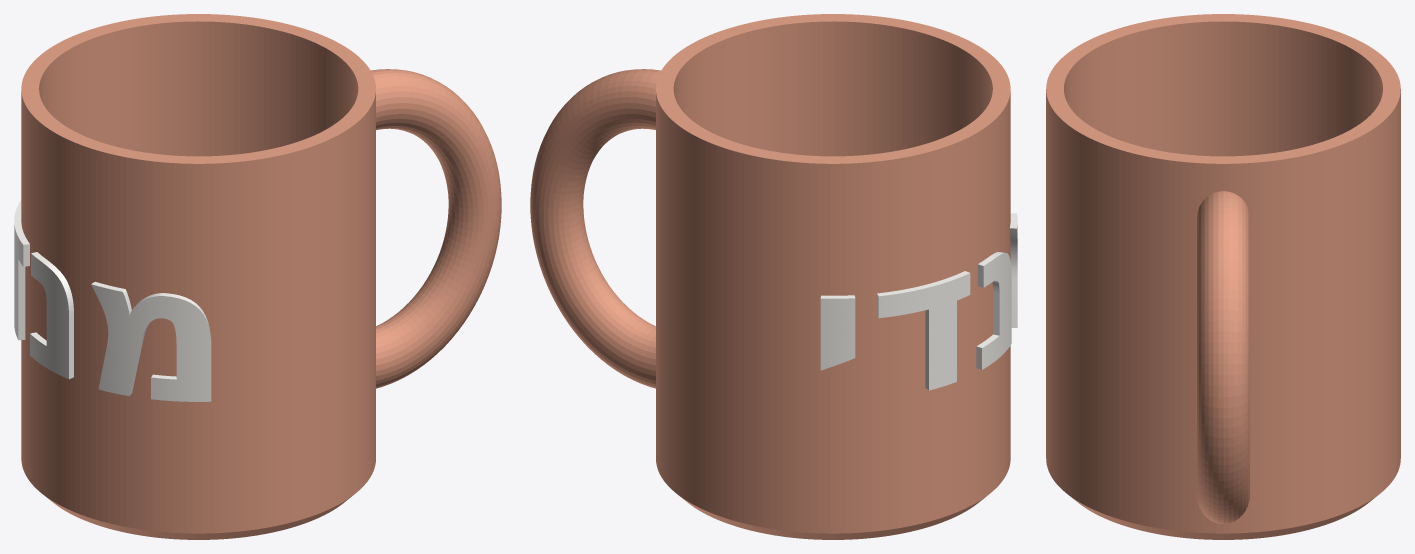
Rendered from mug.glb.
The picture shows the model from 3 angles, left to right: view 1: azimuth 30°, elevation 25°; view 2: azimuth 150°, elevation 25°; view 3: azimuth 270°, elevation 25°; orthographic projection.
Visible parts, largest first — view 1: mug, name; view 2: mug, name; view 3: mug.
Boxes of the visible parts, x1,y1,x2,y2 form: mug: (21, 14, 501, 539); name: (14, 200, 211, 401); mug: (530, 14, 1010, 539); name: (820, 200, 1017, 390); mug: (1046, 14, 1400, 539).
Size of the model in its own units: 0.1196 by 0.095 by 0.08.
